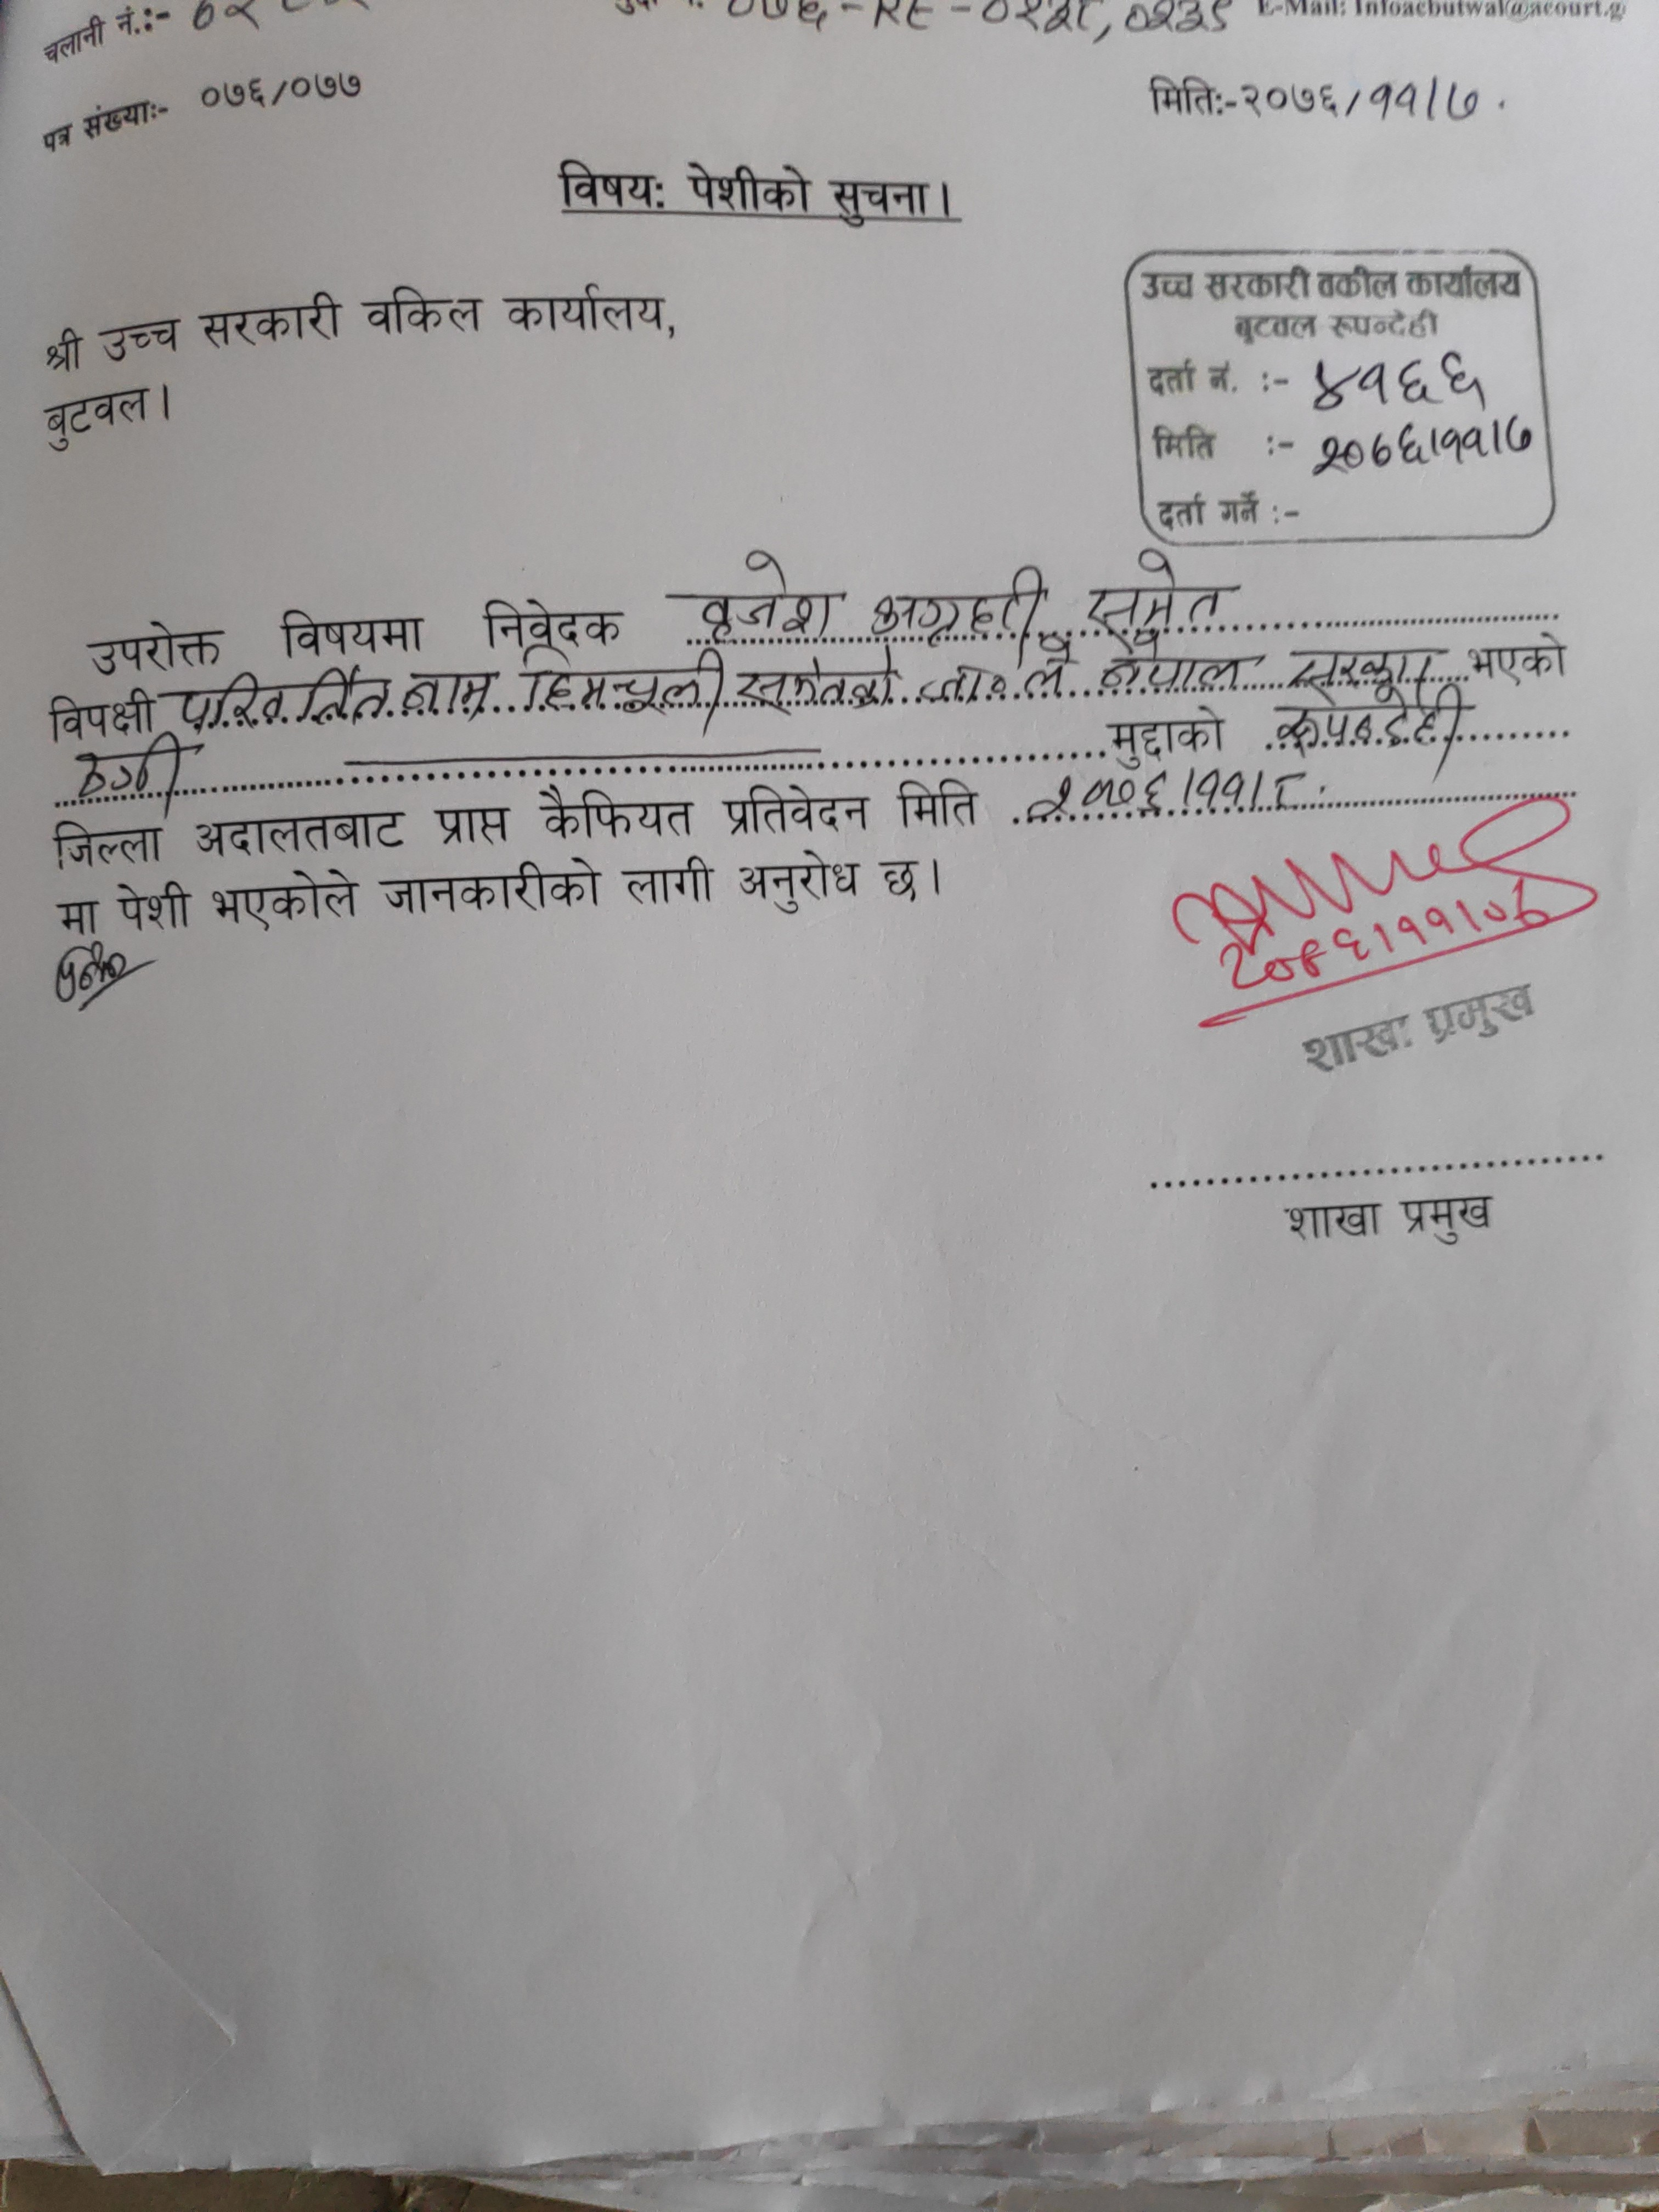text: (505, 636, 730, 721), (1019, 765, 1317, 822), (859, 563, 1046, 646), (678, 549, 840, 641), (1276, 683, 1467, 759), (1305, 418, 1532, 482), (1079, 545, 1246, 632), (174, 662, 394, 723), (1302, 347, 1485, 416), (730, 643, 897, 712), (1091, 625, 1248, 698), (71, 732, 192, 806), (913, 648, 1075, 702), (1284, 643, 1438, 693), (399, 664, 498, 726), (1436, 75, 1490, 127), (1366, 78, 1419, 127)
